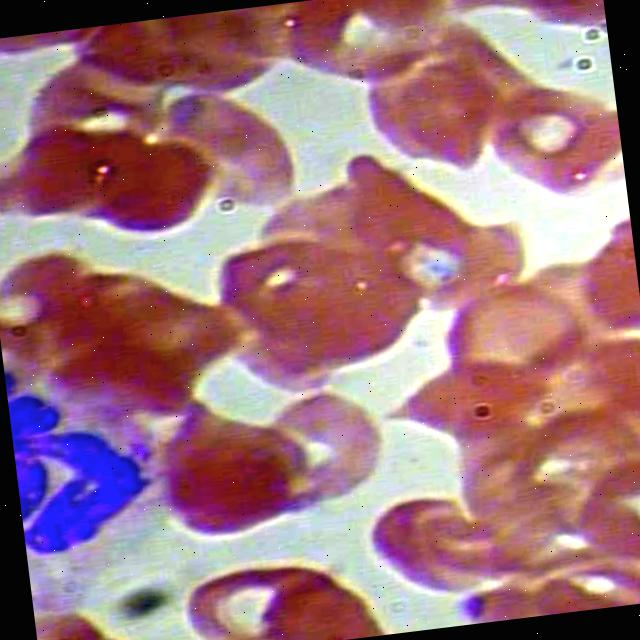RBC: (238, 226, 429, 376), (147, 389, 309, 556), (417, 267, 598, 405), (141, 78, 304, 230), (378, 335, 556, 464), (76, 263, 254, 392), (355, 478, 532, 607), (242, 378, 394, 518), (466, 71, 624, 201), (287, 0, 466, 102), (68, 126, 220, 244), (173, 542, 355, 640), (0, 109, 123, 226), (524, 104, 628, 216), (556, 447, 640, 579)
WBC: (0, 295, 182, 619)
